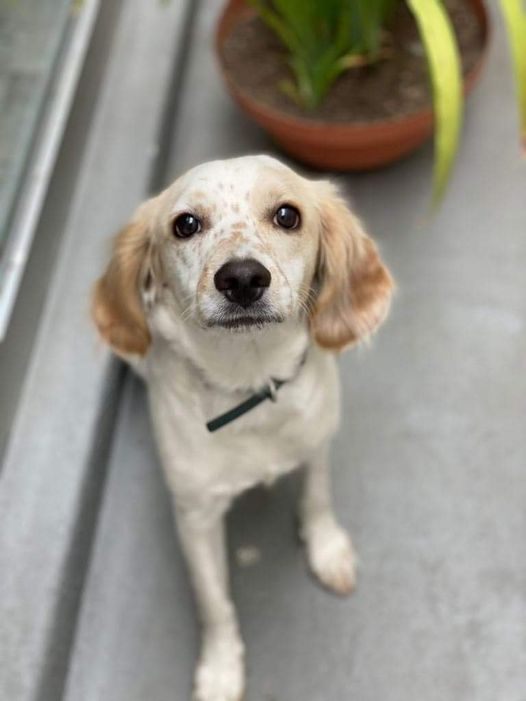dog: (72, 151, 393, 701)
